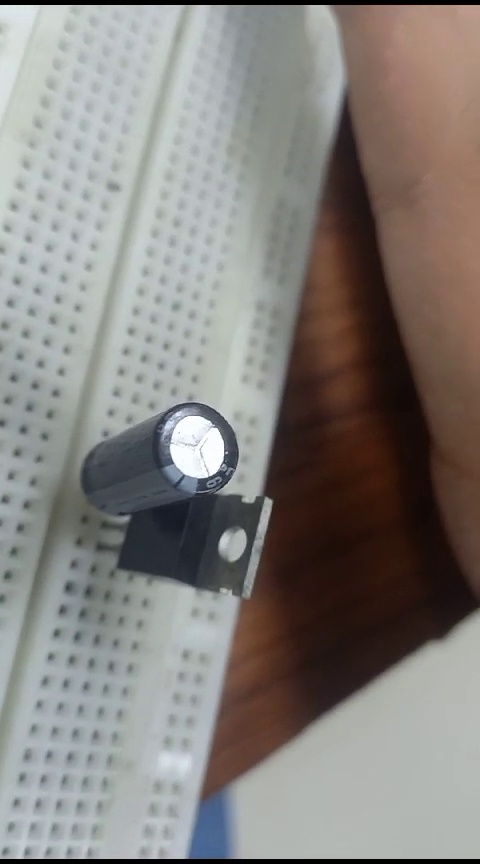capacitor: (83, 400, 242, 517)
voltage regulator: (134, 484, 275, 600)
